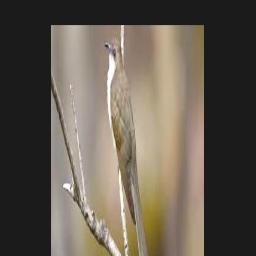Cuckoo: (103, 38, 153, 256)
